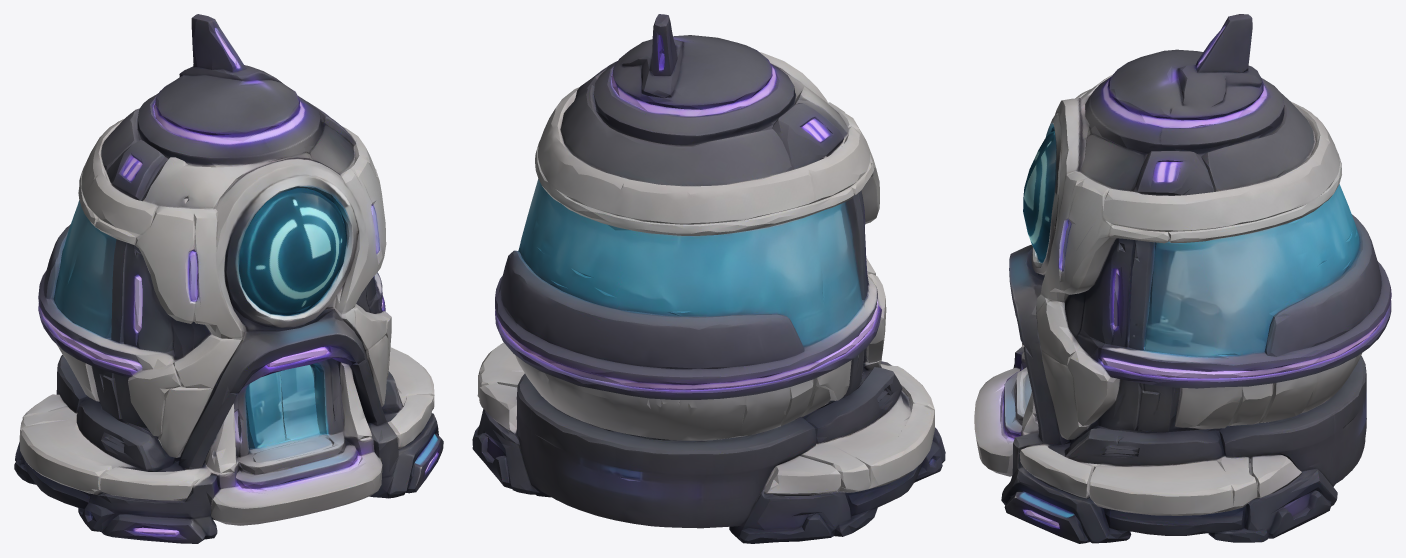
3 renders of one model, left to right at view 1: azimuth 30°, elevation 25°; view 2: azimuth 150°, elevation 25°; view 3: azimuth 270°, elevation 25°, orthographic. The views are drawn at different scales.
Visible parts, largest first — view 1: Mesh; view 2: Mesh; view 3: Mesh.
Boxes of the visible parts, left/top/right/bottom form: Mesh: left=14, top=14, right=443, bottom=543; Mesh: left=472, top=14, right=945, bottom=543; Mesh: left=974, top=14, right=1391, bottom=543.
Bounding box in the file's own units: 1.79 × 1.89 × 1.61.
1 material, 1 textured.
